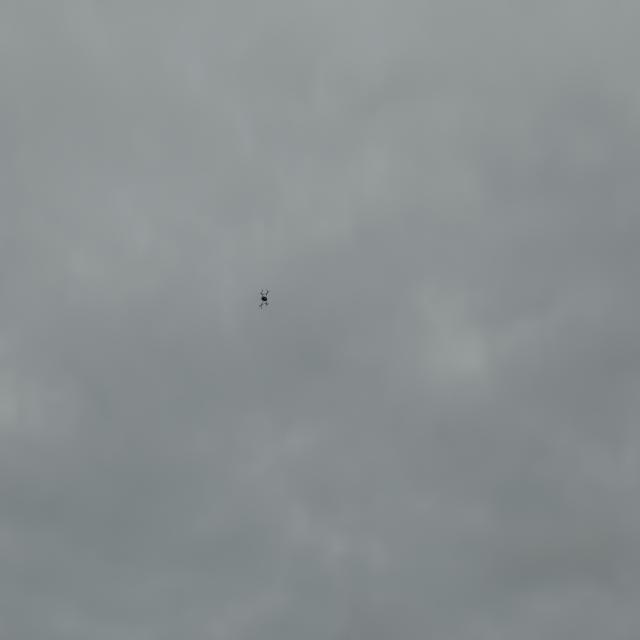drone: (257, 288, 270, 309)
